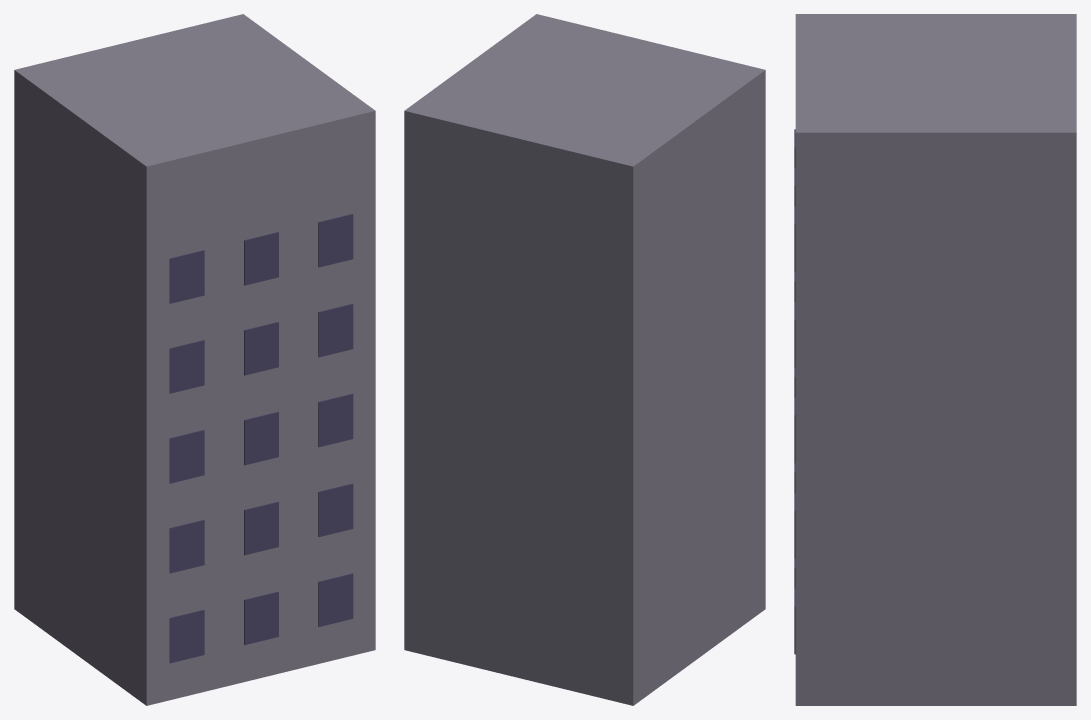
Rendered from distant-building-18m.glb.
The picture shows the model from 3 angles, left to right: view 1: azimuth 30°, elevation 25°; view 2: azimuth 150°, elevation 25°; view 3: azimuth 270°, elevation 25°; orthographic projection. The views are drawn at different scales.
Parts seen in each view (by area): view 1: mass, window (×15); view 2: mass; view 3: mass.
Part boxes in pixels (bbox=[...]): mass: bbox=[14, 14, 375, 705]; window (×15): bbox=[169, 214, 353, 663]; mass: bbox=[404, 14, 765, 705]; mass: bbox=[795, 14, 1076, 705].
Bounding box in the file's own units: 8 × 18 × 8.04.
